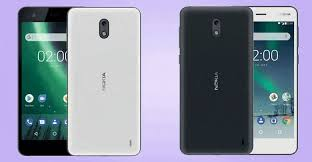nokia: (175, 3, 255, 156), (64, 7, 144, 157)
